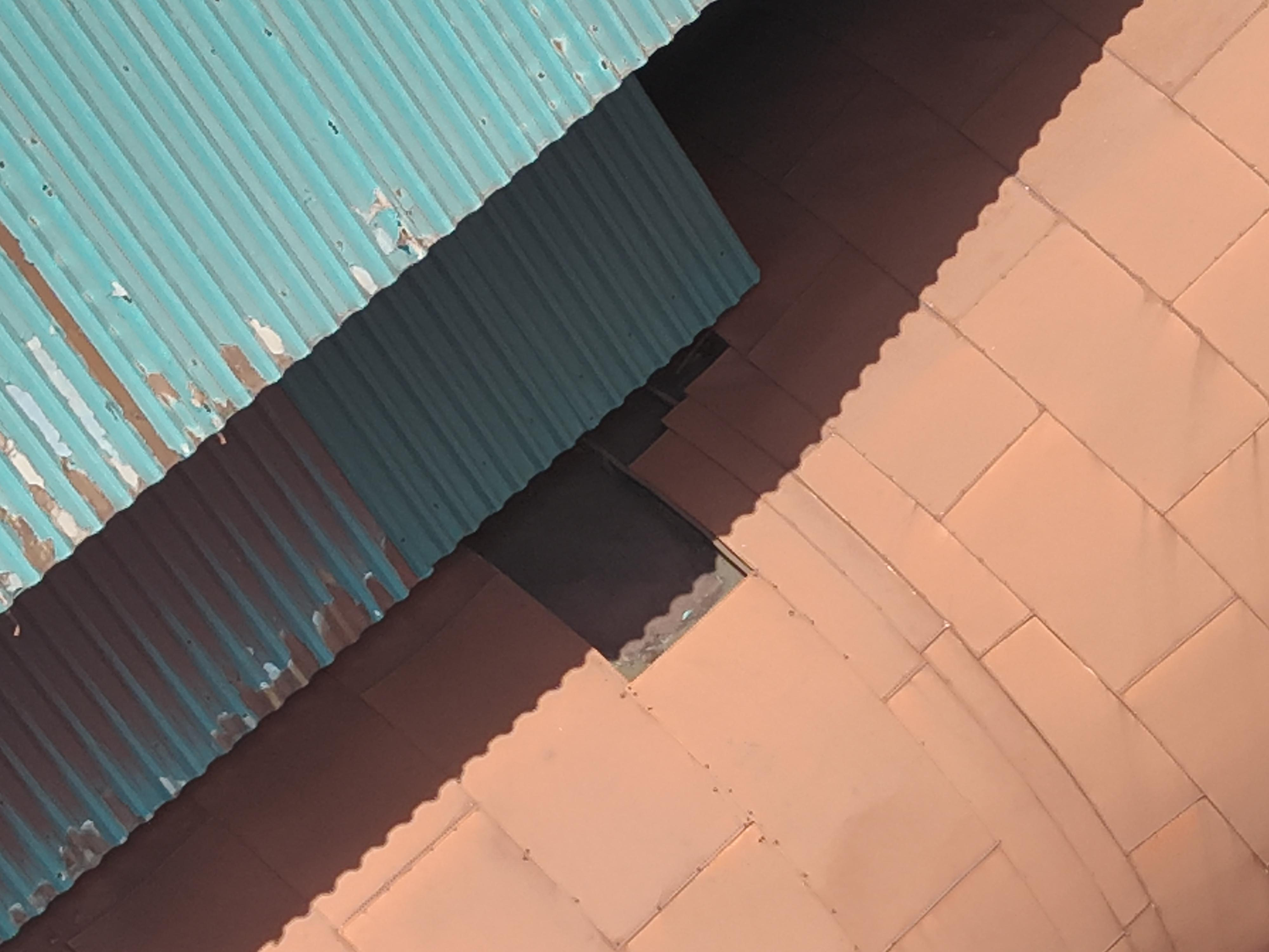Failures: (463, 324, 750, 672)
